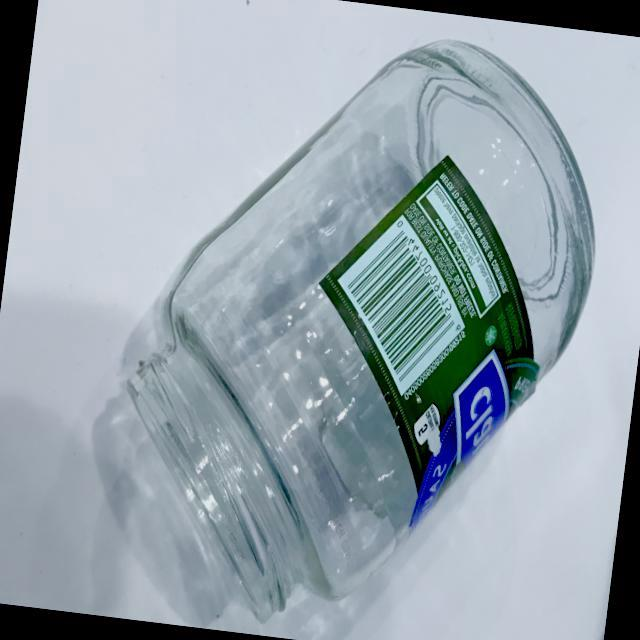glass: (84, 0, 623, 640)
